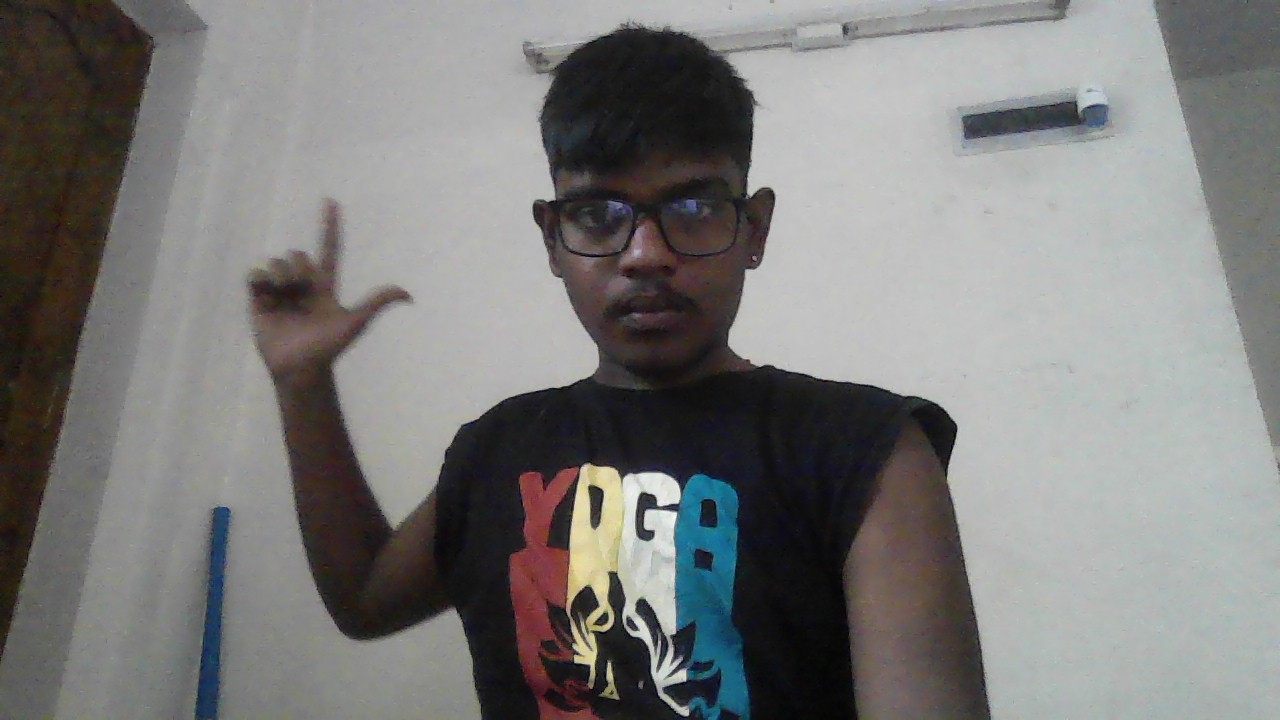L: (246, 197, 414, 373)
